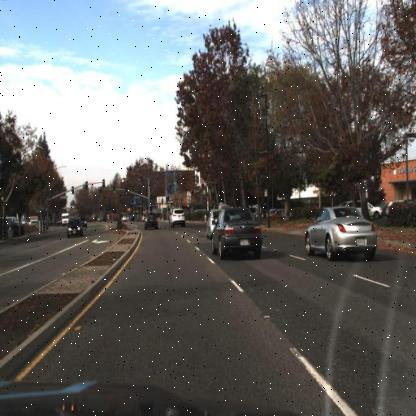car: (304, 202, 386, 268), (210, 205, 265, 261), (166, 207, 188, 233), (344, 199, 370, 221), (64, 219, 84, 235), (144, 211, 160, 230)
truck: (58, 210, 70, 226)
